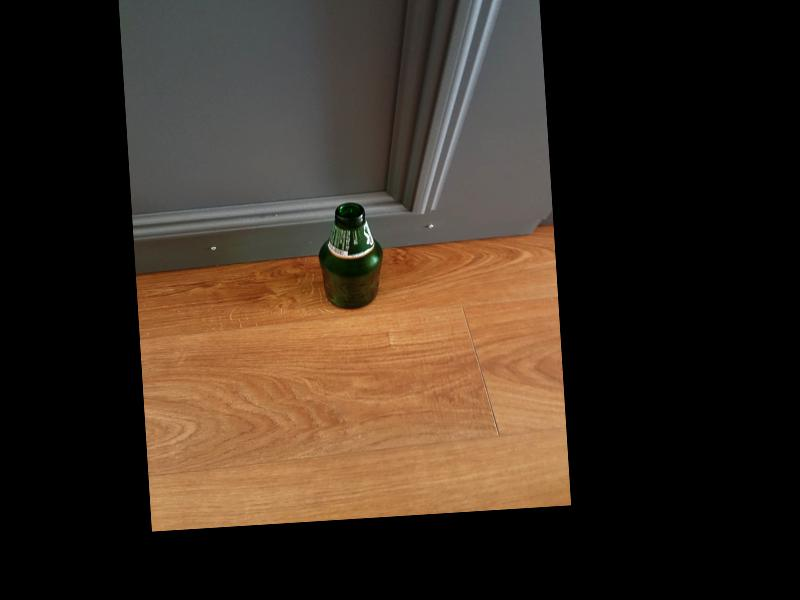Beer: (315, 201, 385, 311)
